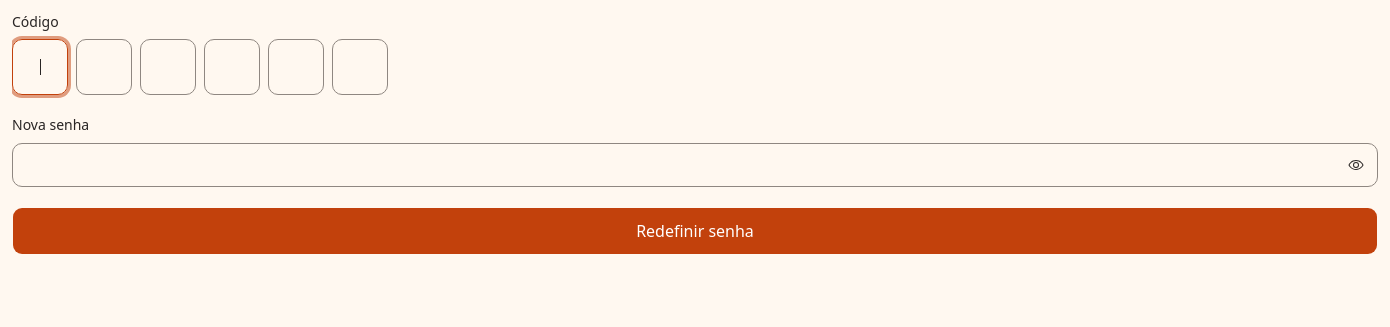
Scenario: ResetPasswordForm › validates before sending anything
Click the button "Redefinir senha": (695, 230) [12,206,1378,254]
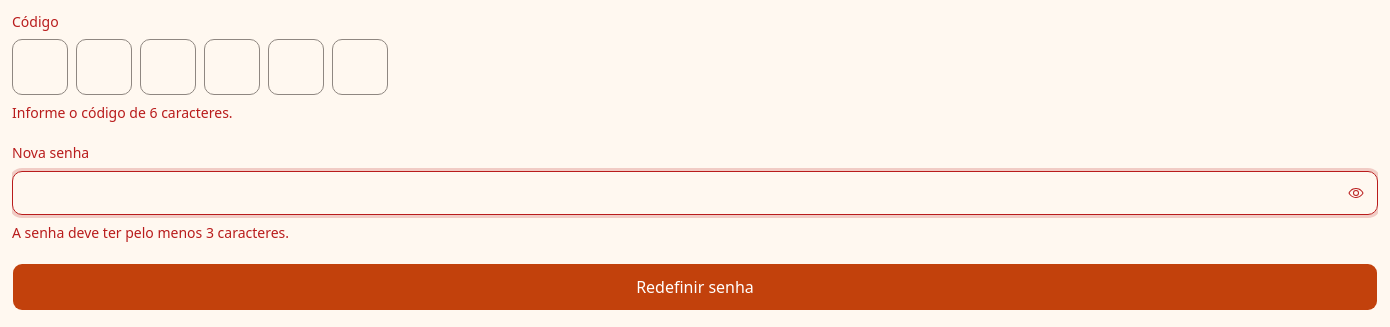
Expected: the text "Informe o código de 6 caracteres." is shown, [12,103,233,122]
Expected: the text "A senha deve ter pelo menos 3 caracteres." is shown, [12,222,289,242]
